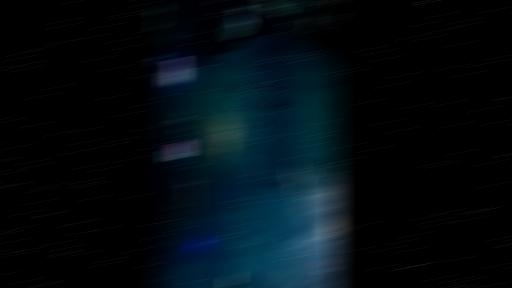Fish: (225, 6, 250, 38), (287, 163, 304, 194), (260, 0, 289, 15), (294, 191, 309, 213), (265, 102, 286, 116), (250, 236, 267, 253), (277, 261, 290, 281), (304, 160, 316, 179), (261, 226, 276, 241), (247, 106, 264, 116), (265, 102, 276, 116), (308, 14, 317, 31), (328, 16, 339, 26), (241, 207, 253, 215), (269, 180, 292, 184), (240, 99, 253, 106), (242, 223, 253, 231), (328, 17, 339, 25), (155, 56, 164, 65), (316, 260, 329, 266), (234, 211, 247, 217), (225, 115, 238, 120), (244, 207, 254, 213), (242, 221, 249, 229), (322, 82, 333, 87), (327, 281, 336, 287), (233, 82, 246, 86), (225, 99, 238, 103), (255, 121, 262, 128), (237, 105, 244, 112), (230, 215, 241, 219), (230, 94, 240, 98), (231, 106, 238, 110), (334, 81, 338, 85), (336, 0, 339, 5), (243, 87, 248, 89)
